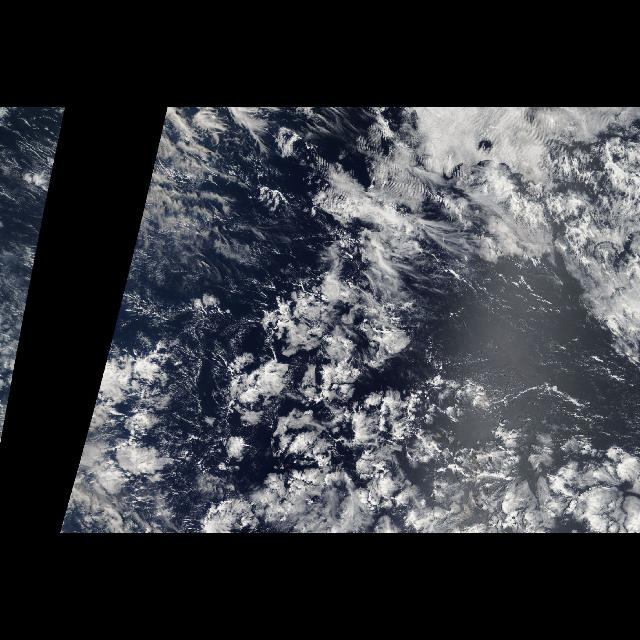Flower: (239, 292, 629, 532)
